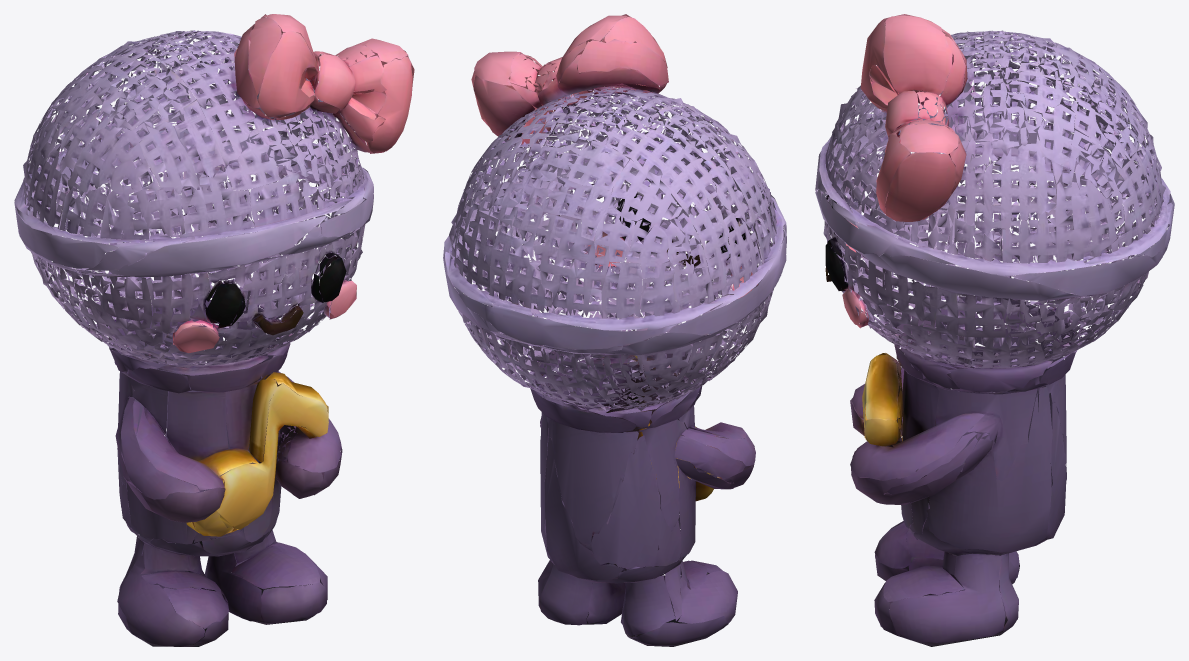
Rendered from emily-microfone.glb.
The picture shows the model from 3 angles, left to right: view 1: azimuth 30°, elevation 25°; view 2: azimuth 150°, elevation 25°; view 3: azimuth 270°, elevation 25°; orthographic projection. The views are drawn at different scales.
Visible parts, largest first — view 1: Mesh_0; view 2: Mesh_0; view 3: Mesh_0.
Boxes of the visible parts, x1=… form: Mesh_0: x1=14, y1=14, x2=414, y2=646; Mesh_0: x1=443, y1=14, x2=786, y2=646; Mesh_0: x1=815, y1=14, x2=1174, y2=646.
Bounding box in the file's own units: 0.6498 × 1.12 × 0.6015.
1 material, 1 textured.
